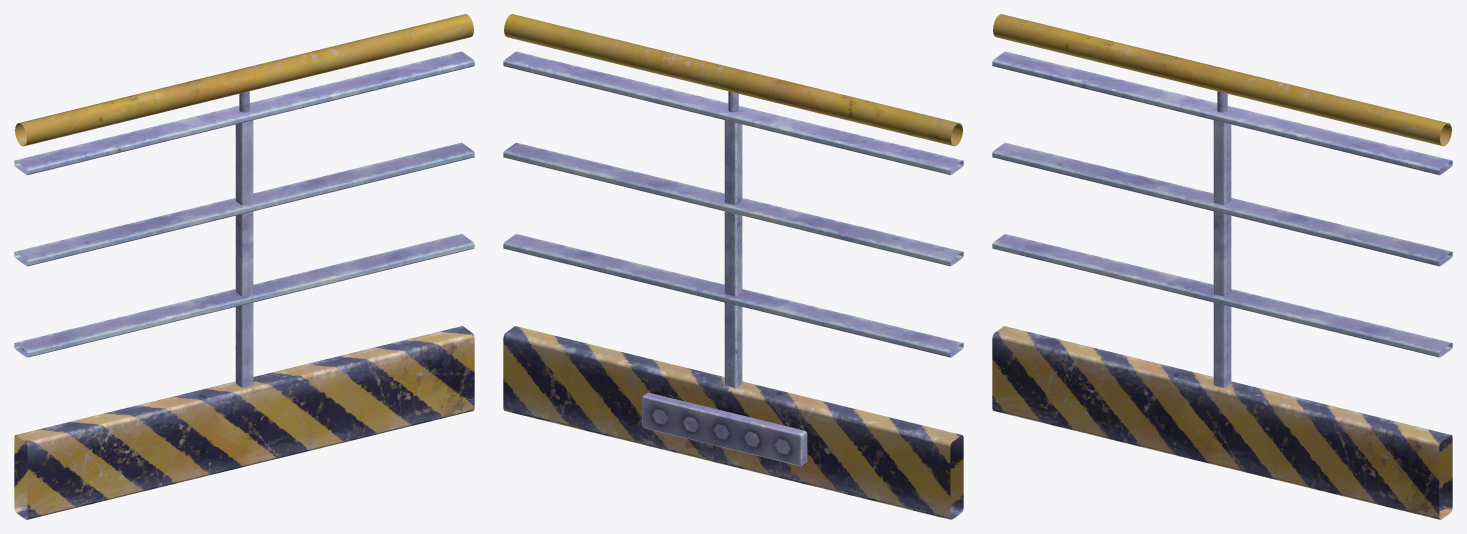
File: SM_Rail_4m.fbx
The picture shows the model from 3 angles, left to right: view 1: azimuth 30°, elevation 25°; view 2: azimuth 150°, elevation 25°; view 3: azimuth 330°, elevation 25°; orthographic projection.
Visible parts, largest first — view 1: SM_Rail_4m; view 2: SM_Rail_4m; view 3: SM_Rail_4m.
Boxes of the visible parts, x1,y1,x2,y2 form: SM_Rail_4m: (14,14,474,519); SM_Rail_4m: (503,14,963,519); SM_Rail_4m: (992,14,1452,519).
Bounding box in the file's own units: 400 × 336 × 29.12.
